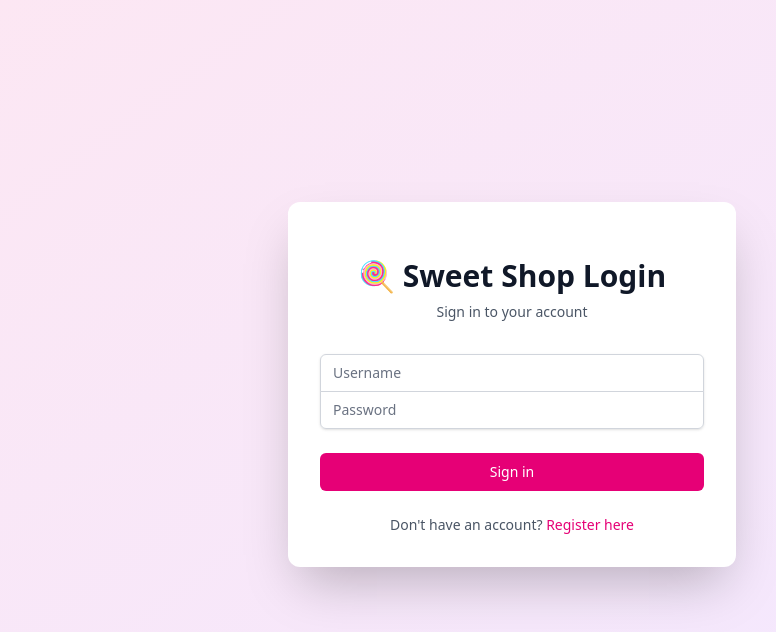
Test: Login Page › should disable submit button while loading
The width and height of the screenshot is (776, 632).
Type "testuser" into the field with placeholder "Username". click: (512, 372)
box: [320,354,704,392]
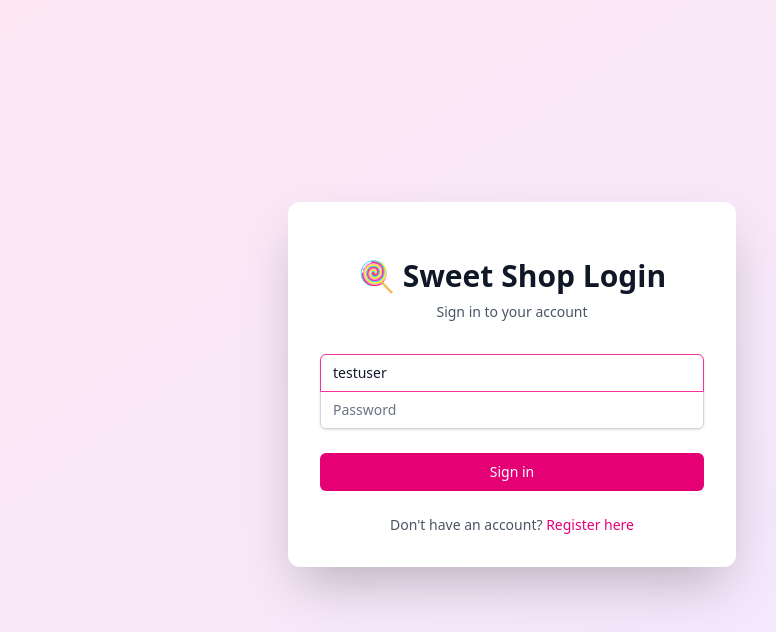
Type "password123" into the password field with placeholder "Password". click: (512, 410)
box: [320,390,704,428]
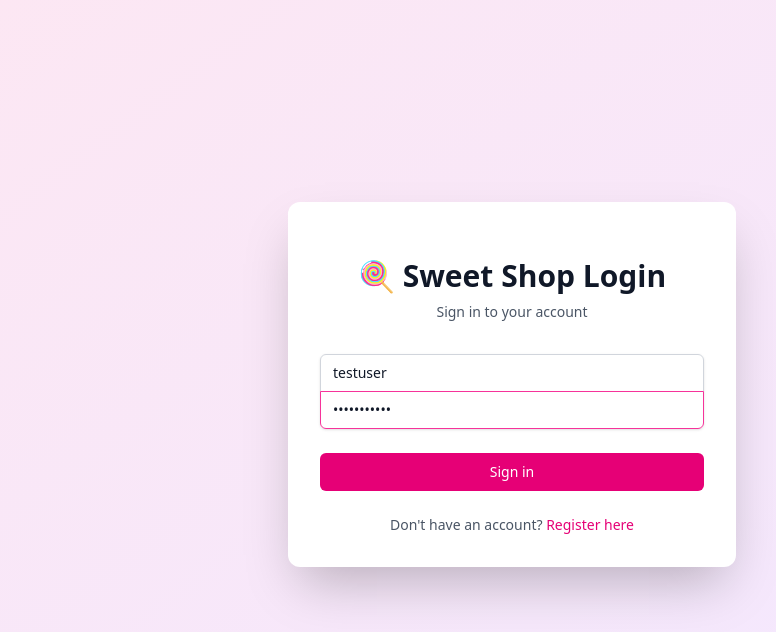
Click the button "Sign in". click: (512, 472)
box: [320,452,704,490]
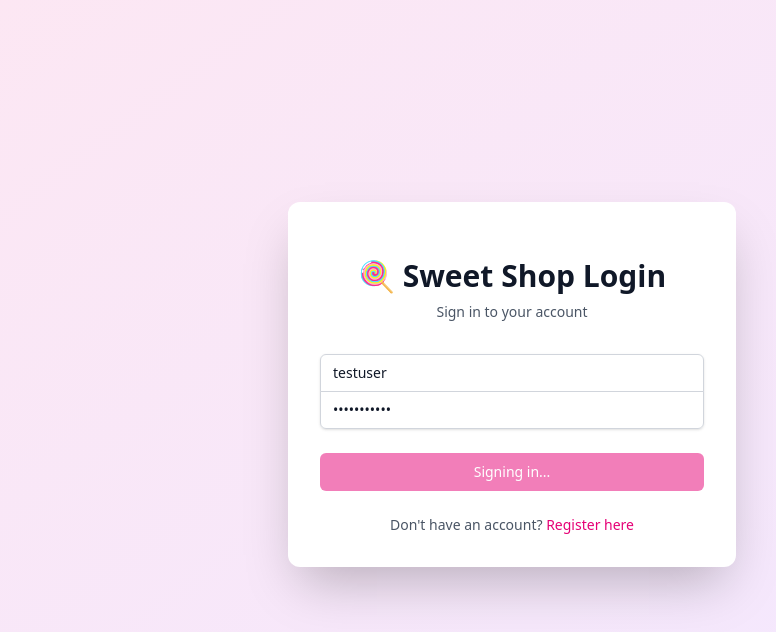
Now the button named "Sign in" is disabled, box [320,452,704,490]
